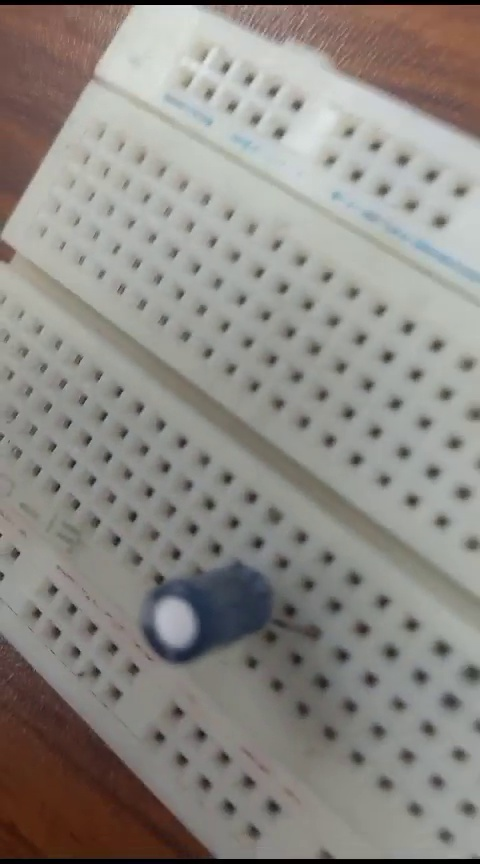capacitor: (130, 569, 301, 679)
